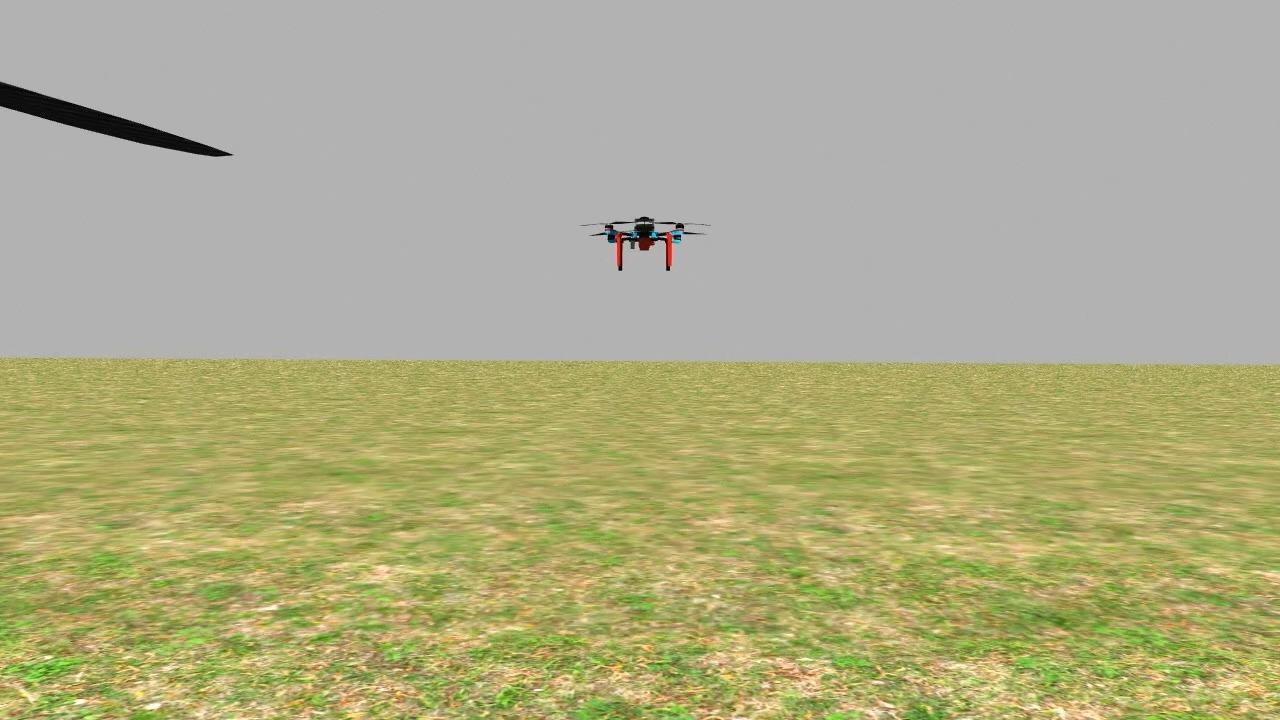UAV: (580, 200, 712, 274)
